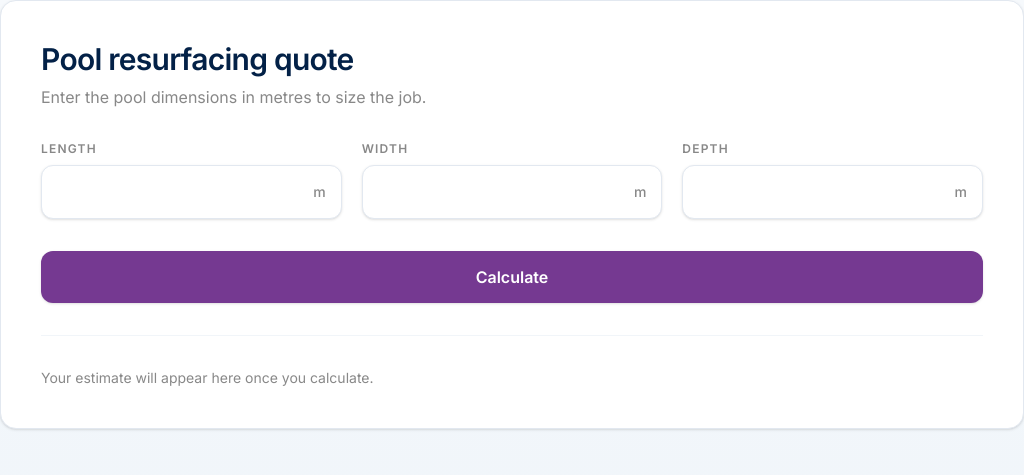
Test: Calculator › shows an error for each empty field and no result
The image size is (1024, 475).
Click the button "Calculate": (512, 277) [41,251,983,303]
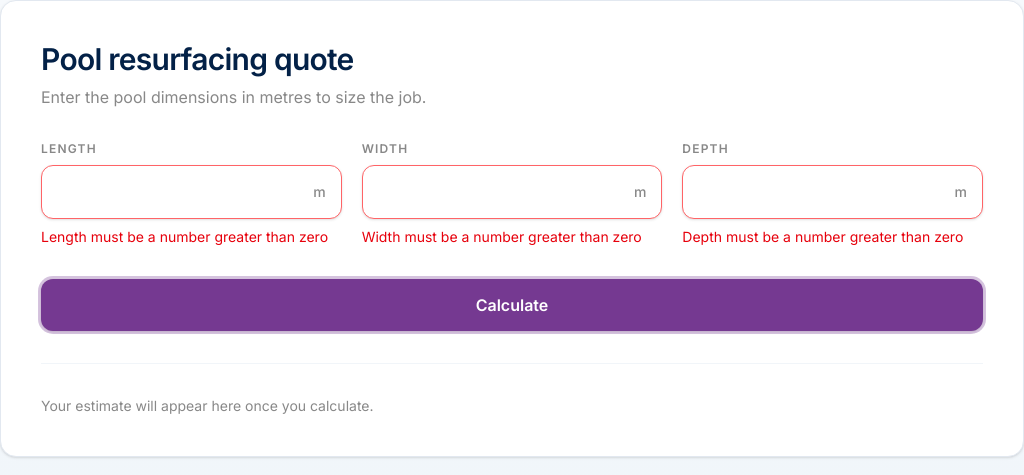
Expected: the number of messages is 3, [41,227,342,247]; [362,227,662,247]; [682,227,983,247]
